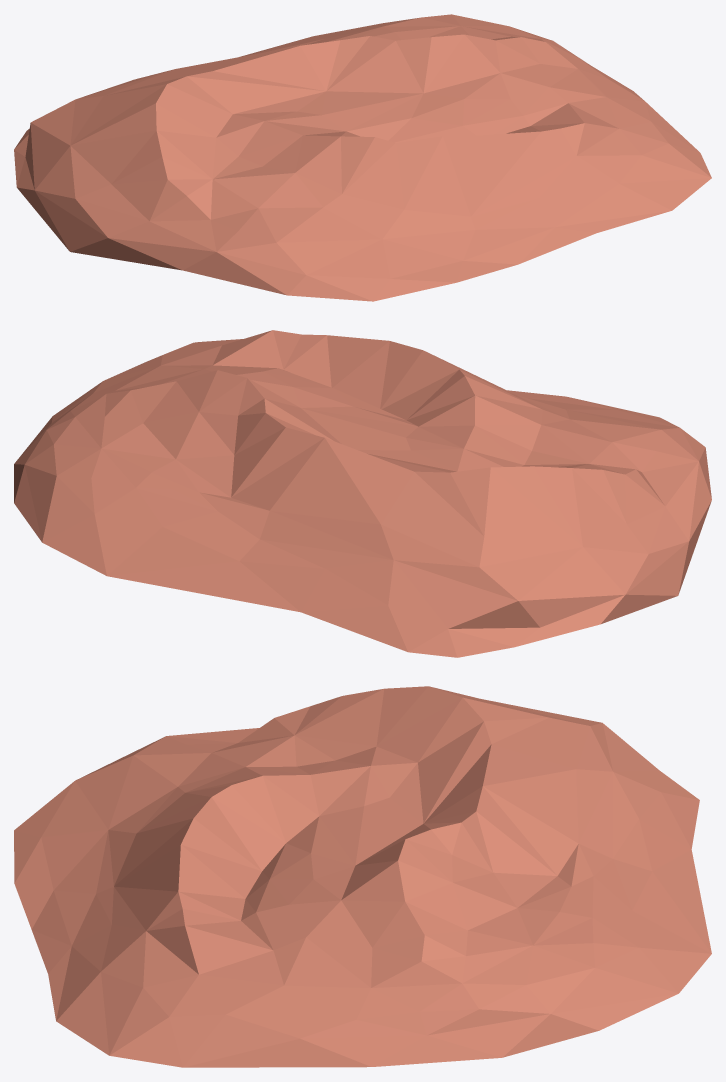
The model's file is sand_001.fbx.
3 views of the same model, one above another, from view 1: azimuth 30°, elevation 25°; view 2: azimuth 150°, elevation 25°; view 3: azimuth 270°, elevation 25° (orthographic). The views are drawn at different scales.
Visible parts, largest first — view 1: sand_001; view 2: sand_001; view 3: sand_001.
Part boxes in pixels (x1=…): sand_001: x1=14, y1=14, x2=711, y2=301; sand_001: x1=14, y1=330, x2=711, y2=657; sand_001: x1=14, y1=686, x2=711, y2=1067.
Size of the model in its own units: 3081 by 2643 by 596.
